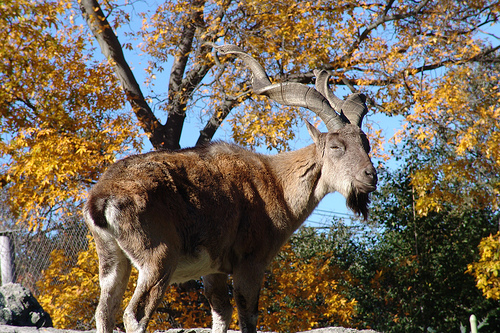goat: (83, 41, 379, 333)
